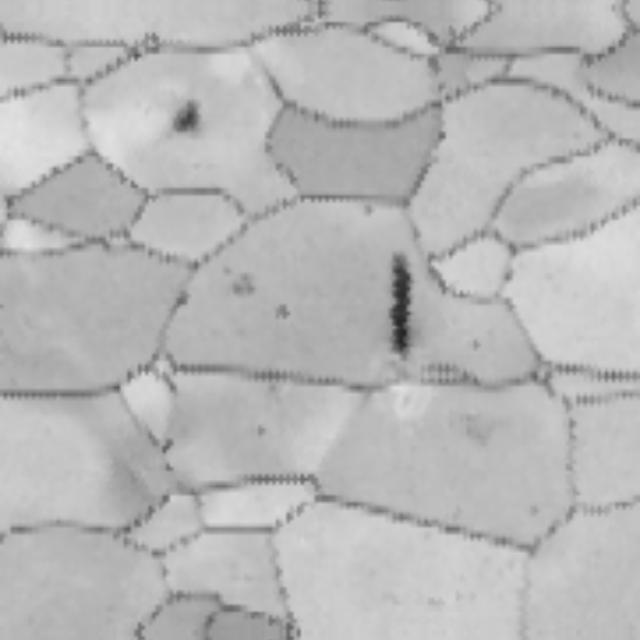good_void: (377, 247, 419, 357), (160, 90, 223, 153), (228, 262, 255, 298), (271, 295, 292, 319), (249, 421, 271, 440), (161, 433, 177, 455), (360, 200, 378, 219), (174, 288, 191, 307), (468, 337, 484, 352)
